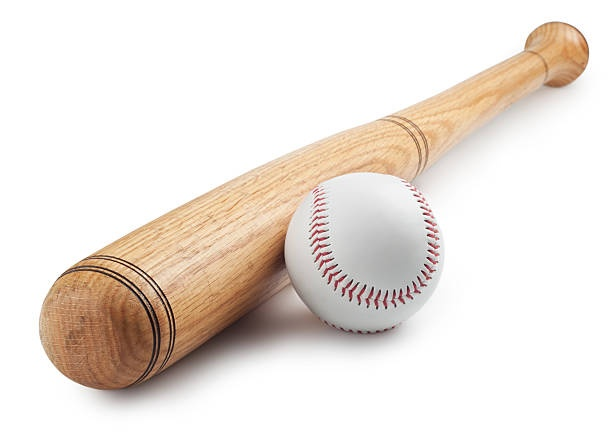bita: (55, 23, 583, 377)
